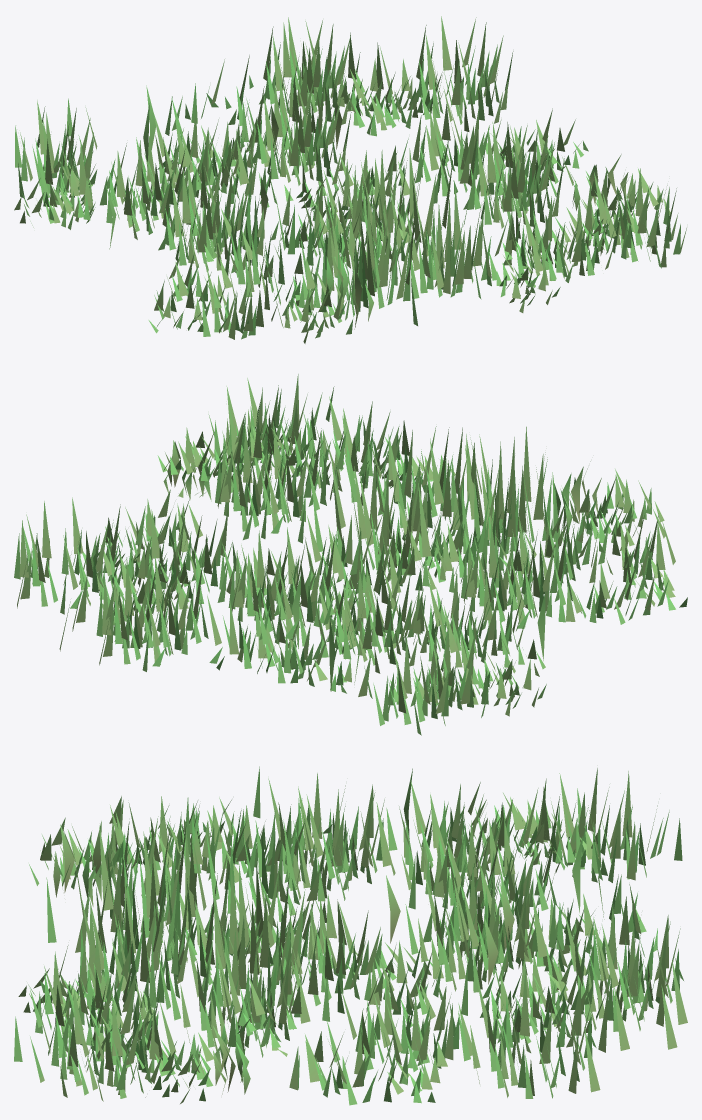
The model's file is grass_1m.fbx.
3 views of the same model, one above another, from view 1: azimuth 30°, elevation 25°; view 2: azimuth 150°, elevation 25°; view 3: azimuth 270°, elevation 25° (orthographic). The views are drawn at different scales.
Parts seen in each view (by area): view 1: grass_1m_light; view 2: grass_1m_light; view 3: grass_1m_light.
Part boxes in pixels (box(x1,y1,x2,y2)): grass_1m_light: box(14, 16, 686, 343); grass_1m_light: box(14, 374, 687, 735); grass_1m_light: box(14, 766, 687, 1105).
Bounding box in the file's own units: 88.97 × 15.71 × 86.22.
